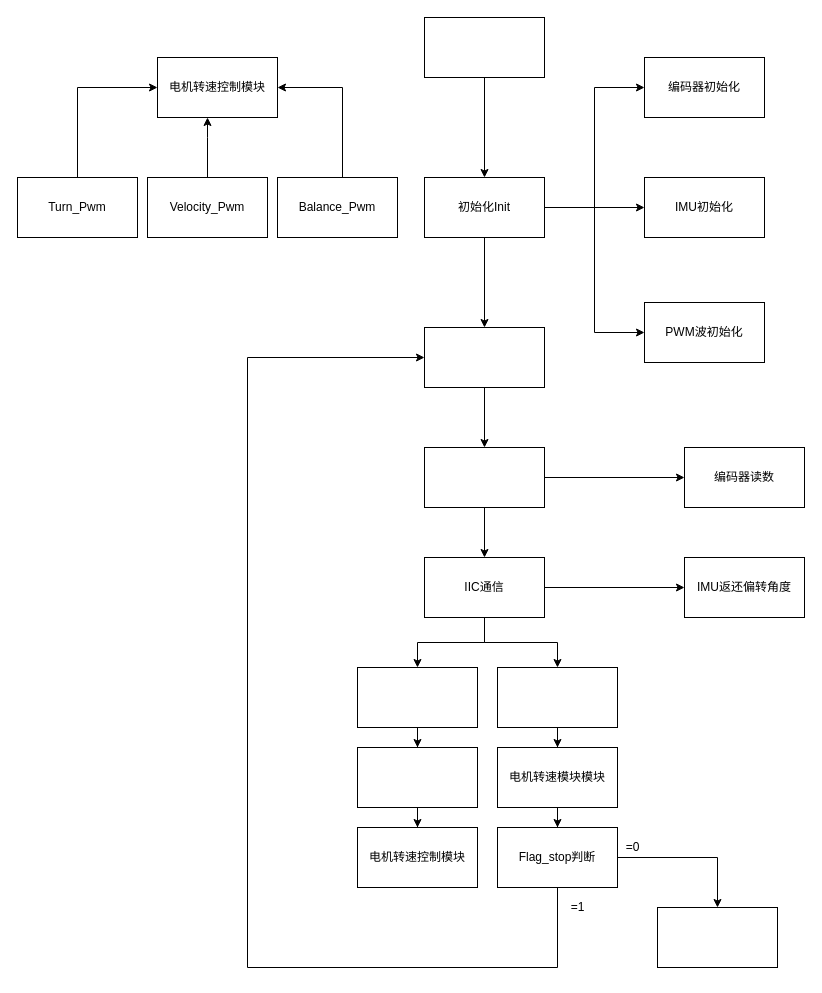
Image size: 822x993. Some labels were removed from this diagram. Here are the shapes that lost their labels. From the top down, the centre of each, then its label:
the point at 484,47: main函数
the point at 484,357: 主循环函数
the point at 484,477: 串口通信（UART）
the point at 417,697: 测试模式
the point at 557,697: 正常工作模式
the point at 417,777: Flag_stop = 0
the point at 717,937: 重调
